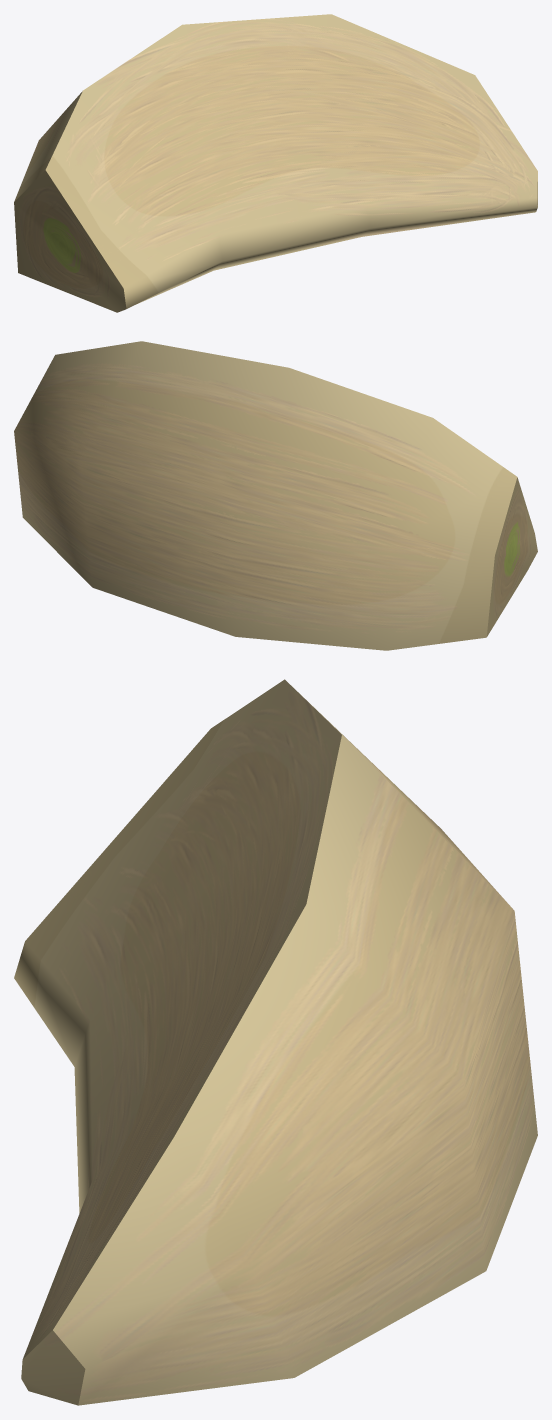
Rendered from Garlic.gltf.
The picture shows the model from 3 angles, top to bottom: view 1: azimuth 30°, elevation 25°; view 2: azimuth 150°, elevation 25°; view 3: azimuth 270°, elevation 25°; orthographic projection. The views are drawn at different scales.
Visible parts, largest first — view 1: garlic1; view 2: garlic1; view 3: garlic1.
Part boxes in pixels (x1=…): garlic1: x1=14, y1=14, x2=537, y2=312; garlic1: x1=14, y1=341, x2=537, y2=650; garlic1: x1=14, y1=679, x2=537, y2=1405.
Size of the model in its own units: 0.064 by 0.0267 by 0.0316.
Materials: 1 (1 with a texture image).
